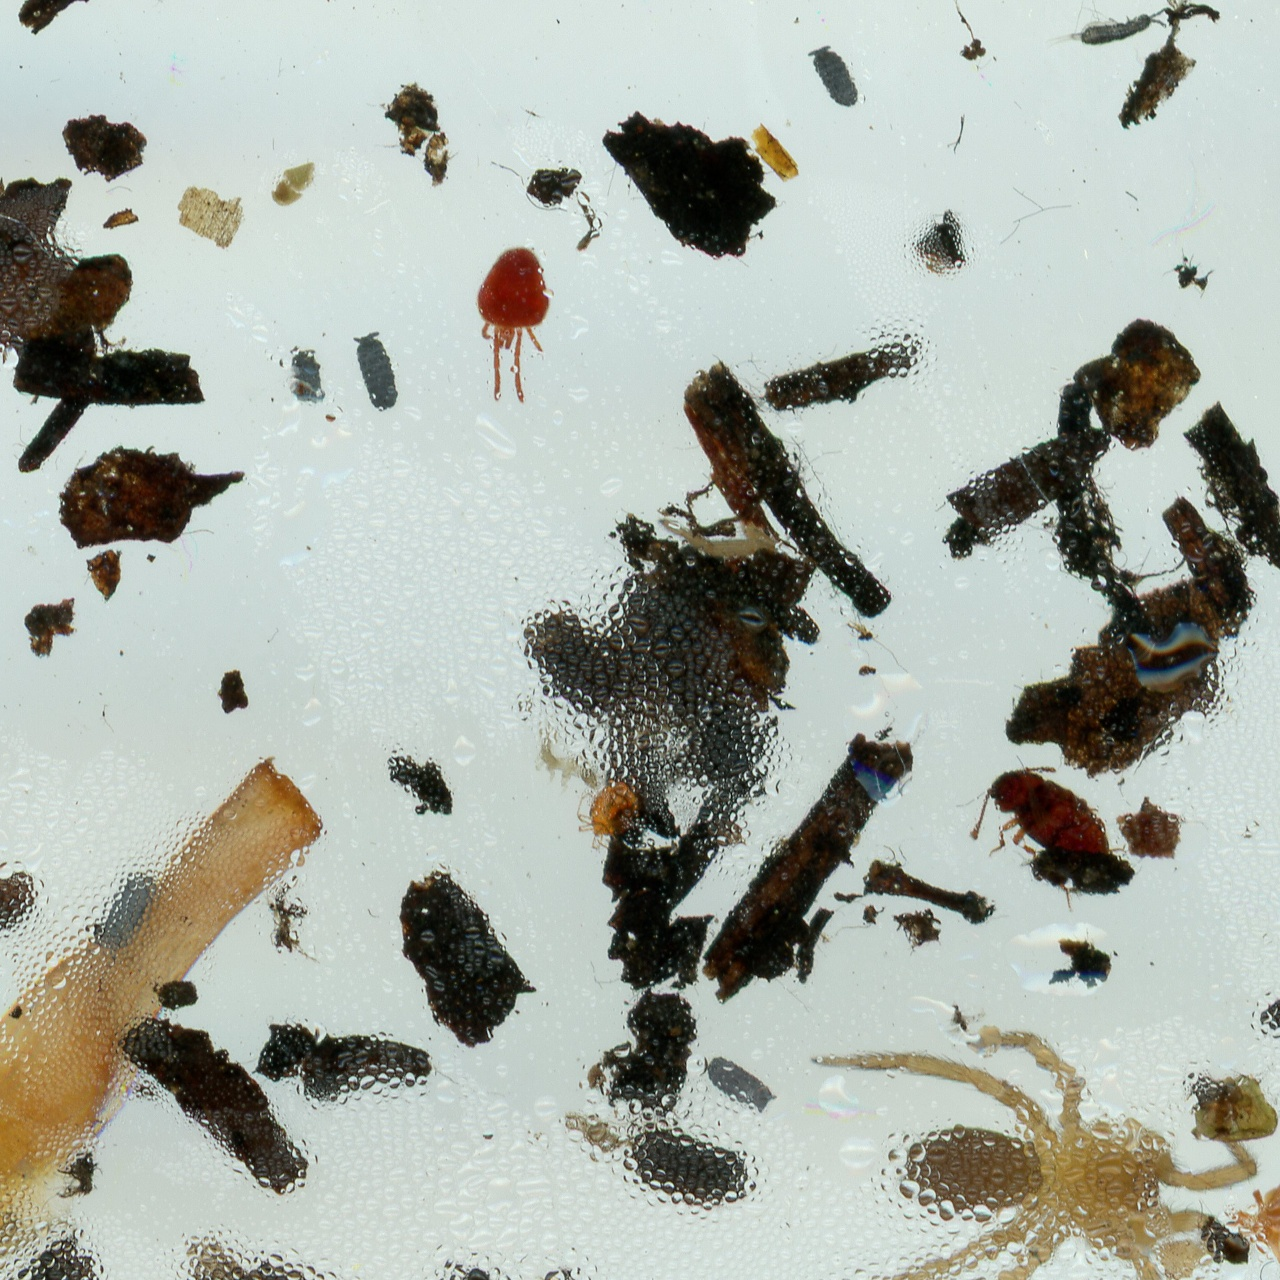arthropod: (804, 1021, 1263, 1280), (972, 758, 1120, 912), (474, 243, 556, 409), (1119, 615, 1222, 698), (88, 861, 167, 967), (1035, 0, 1182, 55), (692, 1043, 787, 1127), (1185, 1072, 1280, 1145), (531, 712, 600, 798), (347, 323, 409, 417), (799, 37, 868, 119), (1224, 1181, 1280, 1278), (574, 777, 642, 853), (1254, 878, 1280, 1055)
